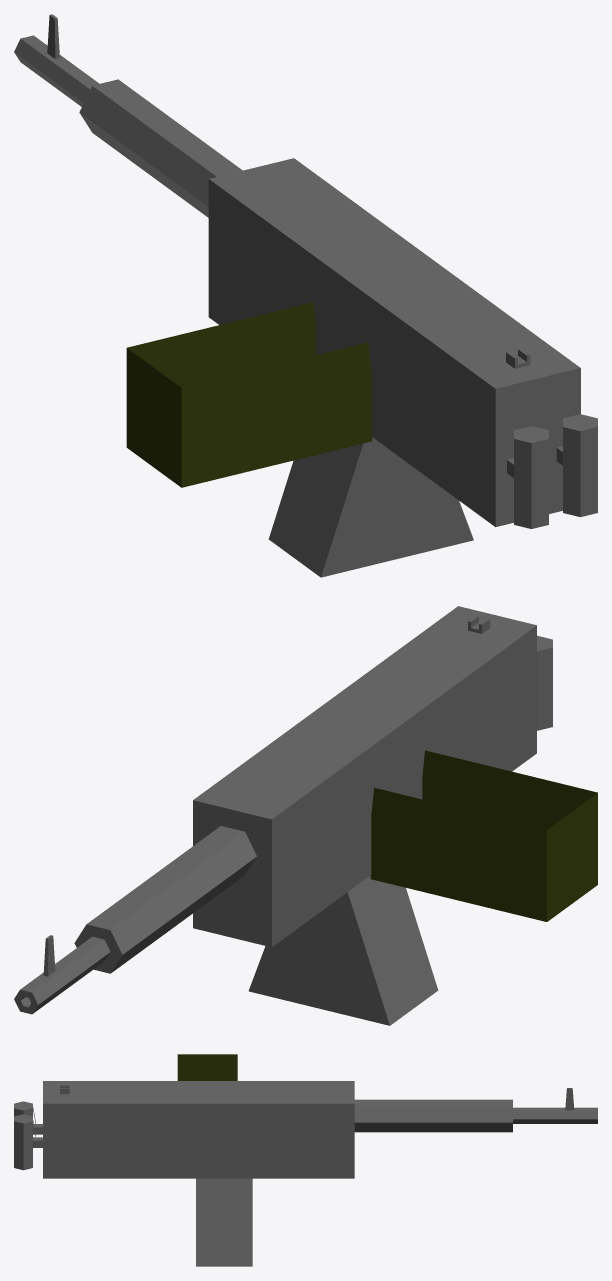
The model's file is machine_gun.glb.
The picture shows the model from 3 angles, top to bottom: view 1: azimuth 30°, elevation 25°; view 2: azimuth 150°, elevation 25°; view 3: azimuth 270°, elevation 25°; orthographic projection. The views are drawn at different scales.
Parts seen in each view (by area): view 1: Cube.002, ammo_box, Stand, barrel.001, Handle, barrel; view 2: Cube.002, ammo_box, Stand, barrel.001, barrel, Handle; view 3: Cube.002, barrel.001, Stand, ammo_box, Handle, barrel.
Boxes of the visible parts, left/top/right/bottom form: Cube.002: left=208, top=158, right=580, bottom=527; ammo_box: left=126, top=302, right=372, bottom=487; Stand: left=268, top=437, right=473, bottom=577; barrel.001: left=79, top=79, right=242, bottom=217; Handle: left=507, top=414, right=597, bottom=528; barrel: left=14, top=35, right=99, bottom=106; Cube.002: left=193, top=606, right=536, bottom=947; ammo_box: left=370, top=750, right=597, bottom=921; Stand: left=248, top=875, right=438, bottom=1025; barrel.001: left=74, top=826, right=256, bottom=973; barrel: left=14, top=936, right=110, bottom=1014; Handle: left=537, top=635, right=552, bottom=730; Cube.002: left=43, top=1081, right=354, bottom=1178; barrel.001: left=354, top=1099, right=512, bottom=1132; Stand: left=196, top=1178, right=252, bottom=1266; ammo_box: left=177, top=1054, right=237, bottom=1080; Handle: left=14, top=1101, right=42, bottom=1170; barrel: left=513, top=1107, right=597, bottom=1123.
Size of the model in its own units: 0.3521 by 0.3198 by 1.06.
